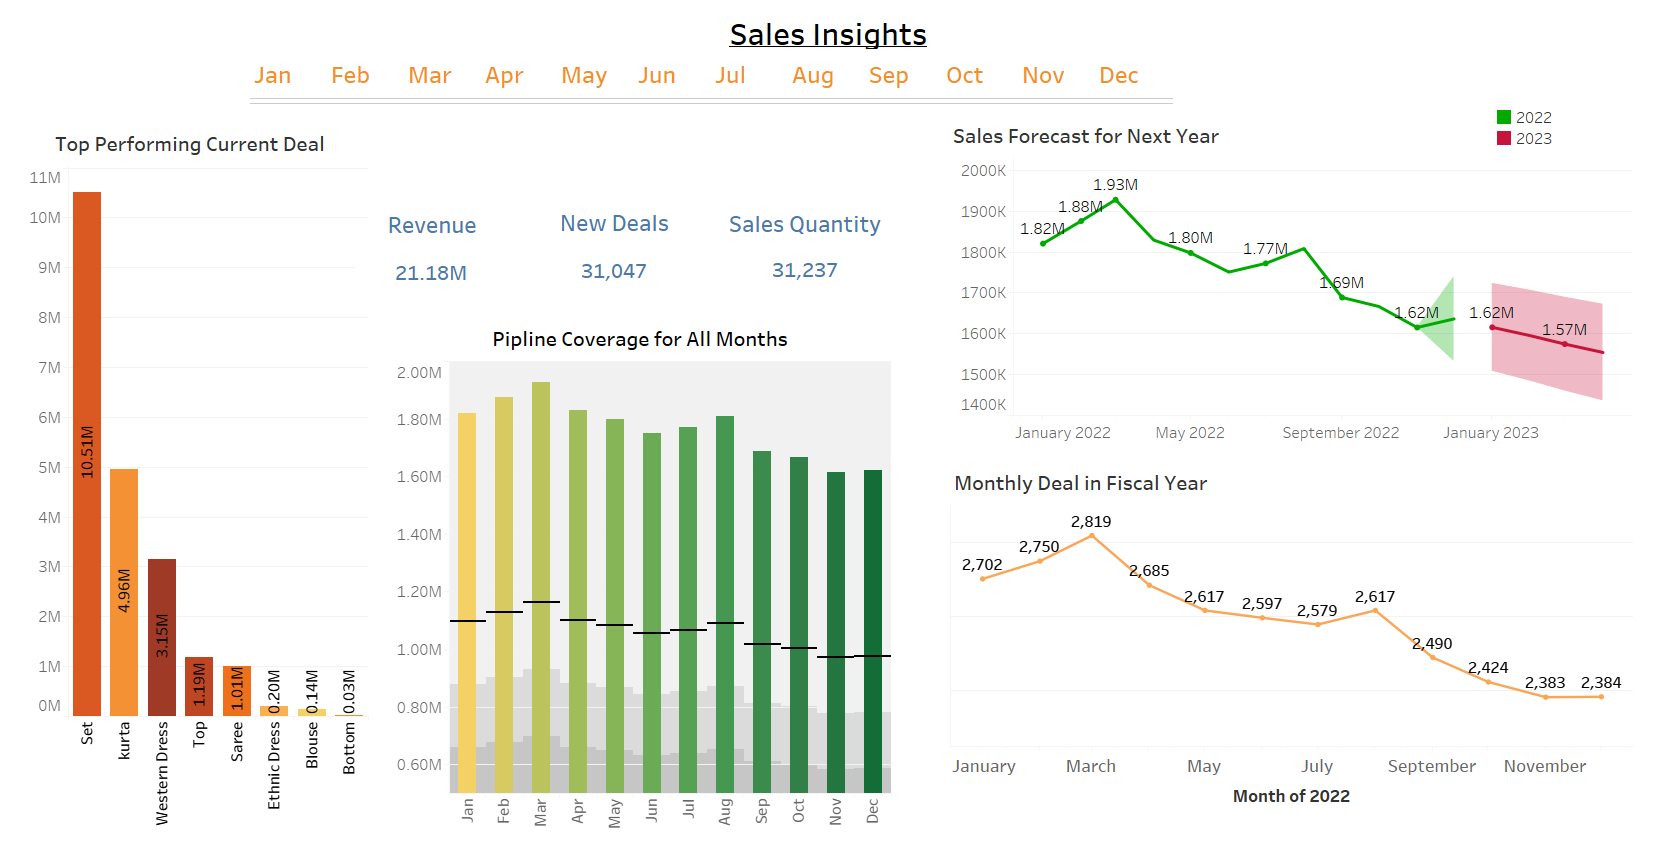

This screenshot's page, from the dashboard's own definition file:
{"tool":"tableau","page":{"name":"Dashboard","canvas":[1000,1000],"units":"permille","ordinal":0},"visuals":[{"type":"title","box":[4.8,9.4,990.3,57.6]},{"type":"worksheet","title":"Months","mark":"Automatic","cols":["Month"],"box":[150.8,40,557.2,143.4]},{"type":"legend","title":"Sales Forecast for Next Year ","param":"[federated.12elii41p5s58w13t0wrv1jmjy9r].[yr:Date:ok]","box":[901.9,125.7,84.2,75.2]},{"type":"worksheet","title":"Sales Forecast for Next Year ","mark":"Line","rows":["Amount"],"cols":["Date"],"box":[573,135.1,412.5,386.6]},{"type":"worksheet","title":"Top Performing Current Deal","mark":"Automatic","rows":["Amount"],"cols":["Category"],"box":[7.2,144.5,214.8,837.8]},{"type":"worksheet","title":"New Deals for the Current Month","mark":"Text","box":[322.2,236.2,96.9,110.5]},{"type":"worksheet","title":"Sales Quantity","mark":"Automatic","box":[436.1,237.4,98.7,106.9]},{"type":"worksheet","title":"Revenue for the All Months","mark":"Automatic","box":[214.4,238.5,92.7,110.5]},{"type":"worksheet","title":"Pipline Coverage for Current Month","mark":"Automatic","rows":["Amount"],"cols":["Month"],"box":[235,373.7,302.9,605.2]},{"type":"worksheet","title":"Monthly New Deals (Fiscal Year)","mark":"Automatic","rows":["Order_ID"],"cols":["Date"],"box":[573.6,542.9,412.5,413.6]}]}

Visuals, with their boxes on the dashboard's canvas, which has no fixed pixel size, in thousandths of its width and height (x1, y1, x2, y2). These are canvas units, not pixel positions in the 1657x851 screenshot, which may show the page scaled, cropped or inside an application window:
title: {"x1": 5, "y1": 9, "x2": 995, "y2": 67}
"Months" worksheet: {"x1": 151, "y1": 40, "x2": 708, "y2": 183}
"Sales Forecast for Next Year " legend: {"x1": 902, "y1": 126, "x2": 986, "y2": 201}
"Sales Forecast for Next Year " worksheet (Line marks): {"x1": 573, "y1": 135, "x2": 986, "y2": 522}
"Top Performing Current Deal" worksheet: {"x1": 7, "y1": 144, "x2": 222, "y2": 982}
"New Deals for the Current Month" worksheet (Text marks): {"x1": 322, "y1": 236, "x2": 419, "y2": 347}
"Sales Quantity" worksheet: {"x1": 436, "y1": 237, "x2": 535, "y2": 344}
"Revenue for the All Months" worksheet: {"x1": 214, "y1": 238, "x2": 307, "y2": 349}
"Pipline Coverage for Current Month" worksheet: {"x1": 235, "y1": 374, "x2": 538, "y2": 979}
"Monthly New Deals (Fiscal Year)" worksheet: {"x1": 574, "y1": 543, "x2": 986, "y2": 956}
